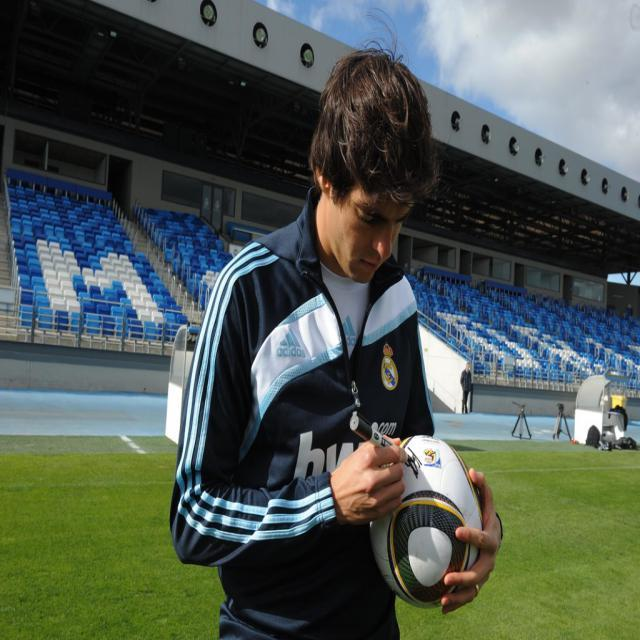football: (367, 418, 499, 609)
